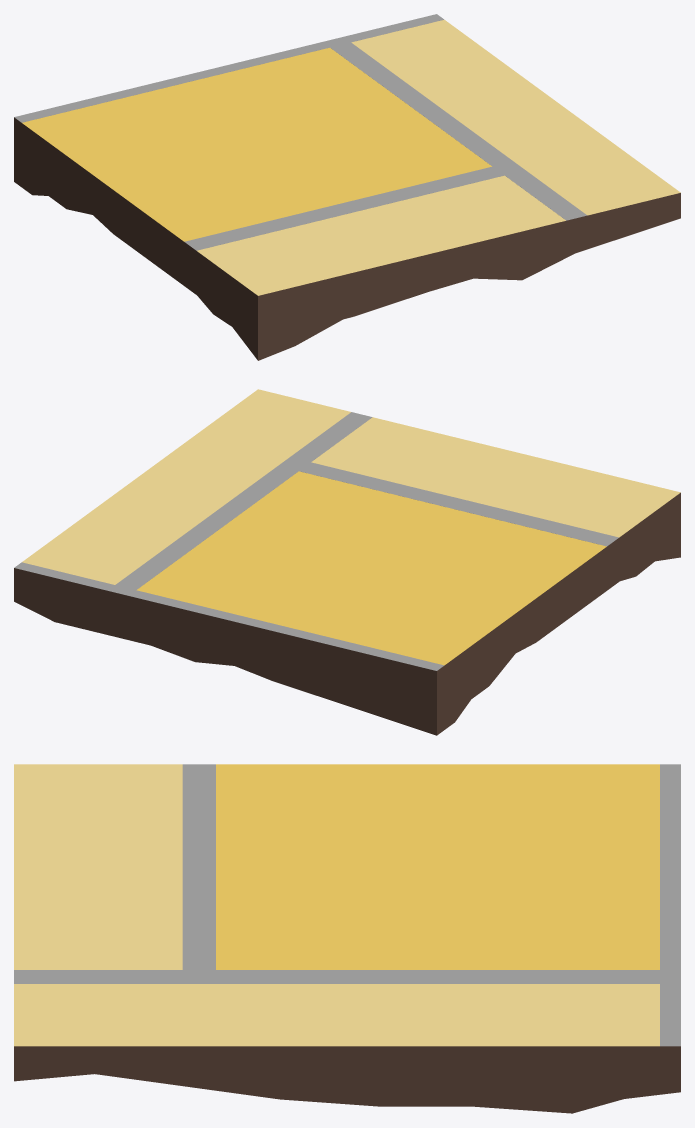
Rendered from Third Block.fbx.
The picture shows the model from 3 angles, top to bottom: view 1: azimuth 30°, elevation 25°; view 2: azimuth 150°, elevation 25°; view 3: azimuth 270°, elevation 25°; orthographic projection. The views are drawn at different scales.
Parts seen in each view (by area): view 1: Model; view 2: Model; view 3: Model.
Boxes of the visible parts, x1=… form: Model: x1=14, y1=14, x2=680, y2=360; Model: x1=14, y1=389, x2=680, y2=735; Model: x1=14, y1=764, x2=680, y2=1113.
Size of the model in its own units: 10000 by 1471 by 10000.
